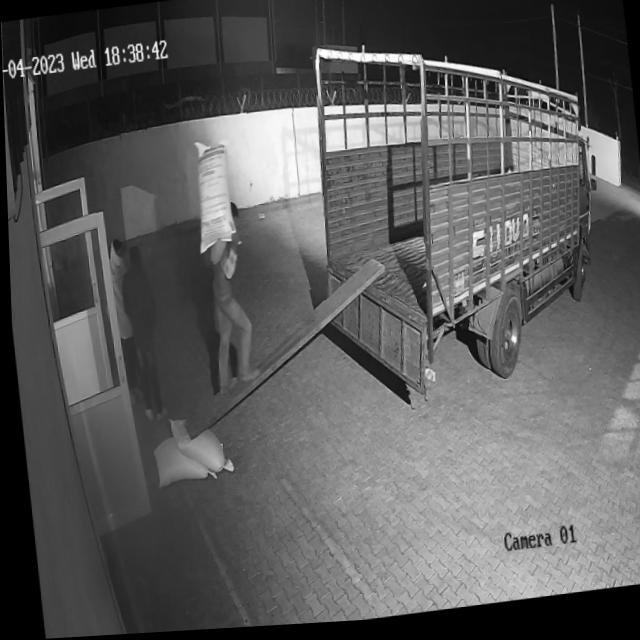sack: (185, 136, 239, 256), (165, 415, 230, 482), (147, 432, 213, 490)
